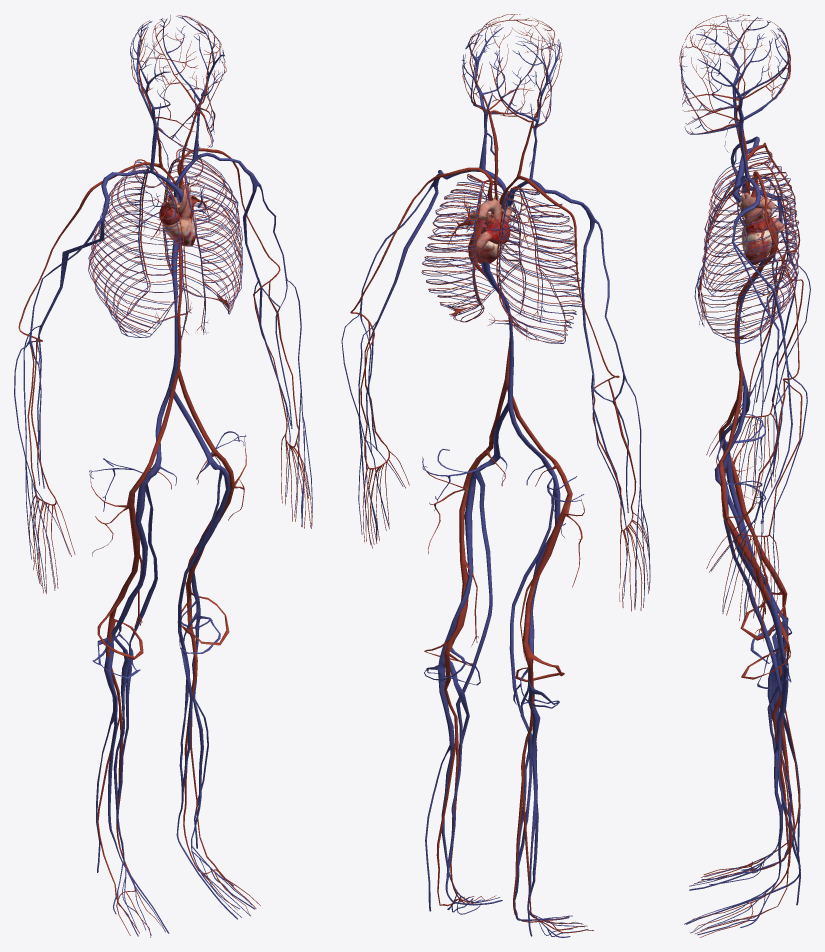
The model's file is vein_artery_heart.gltf.
3 renders of one model, left to right at view 1: azimuth 30°, elevation 25°; view 2: azimuth 150°, elevation 25°; view 3: azimuth 270°, elevation 25°, orthographic. The views are drawn at different scales.
Visible parts, largest first — view 1: Vein, Artery, Heart; view 2: Vein, Artery, Heart; view 3: Vein, Artery, Heart.
Part boxes in pixels (x1=…): Vein: x1=14, y1=15, x2=312, y2=936; Artery: x1=18, y1=15, x2=312, y2=937; Heart: x1=159, y1=180, x2=196, y2=246; Vein: x1=341, y1=22, x2=650, y2=937; Artery: x1=350, y1=14, x2=648, y2=933; Heart: x1=469, y1=195, x2=512, y2=263; Vein: x1=680, y1=17, x2=810, y2=935; Artery: x1=679, y1=14, x2=803, y2=937; Heart: x1=737, y1=193, x2=784, y2=264.
Size of the model in its own units: 57.53 by 169 by 22.67.
3 materials, 3 textured.
